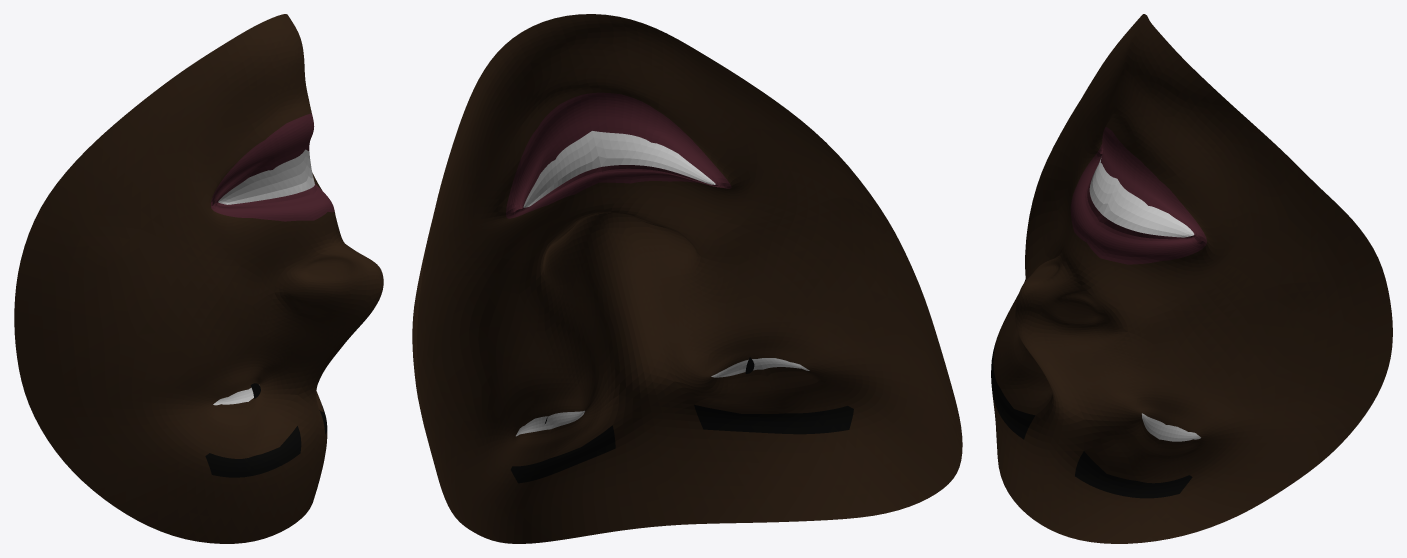
Rendered from IMG_3688.obj.
The picture shows the model from 3 angles, left to right: view 1: azimuth 30°, elevation 25°; view 2: azimuth 150°, elevation 25°; view 3: azimuth 270°, elevation 25°; orthographic projection. The views are drawn at different scales.
Parts seen in each view (by area): view 1: face_mesh_subdivided; view 2: face_mesh_subdivided; view 3: face_mesh_subdivided.
Boxes of the visible parts, <box> form: face_mesh_subdivided: <box>14,14,383,543</box>; face_mesh_subdivided: <box>412,14,962,543</box>; face_mesh_subdivided: <box>991,14,1392,543</box>.
Size of the model in its own units: 0.6058 by 0.7371 by 0.543.
